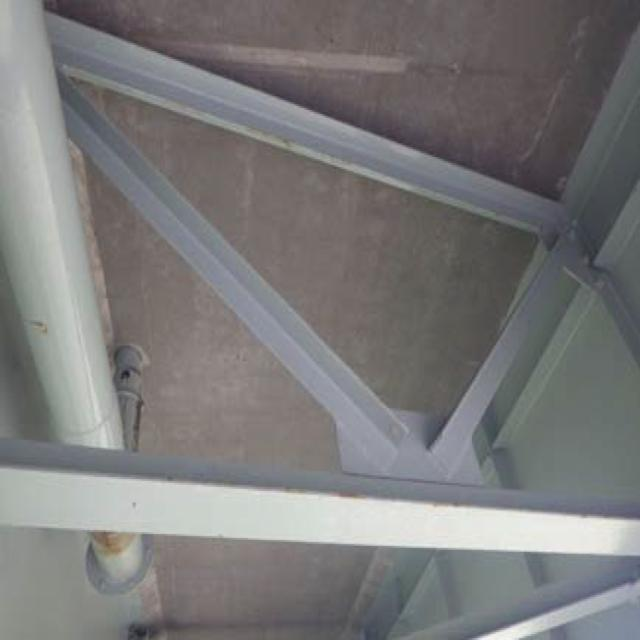corrosion: (77, 522, 150, 574)
